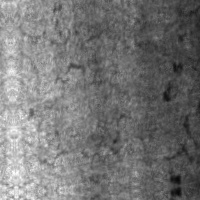crazing: (16, 0, 136, 172), (155, 3, 199, 164)
